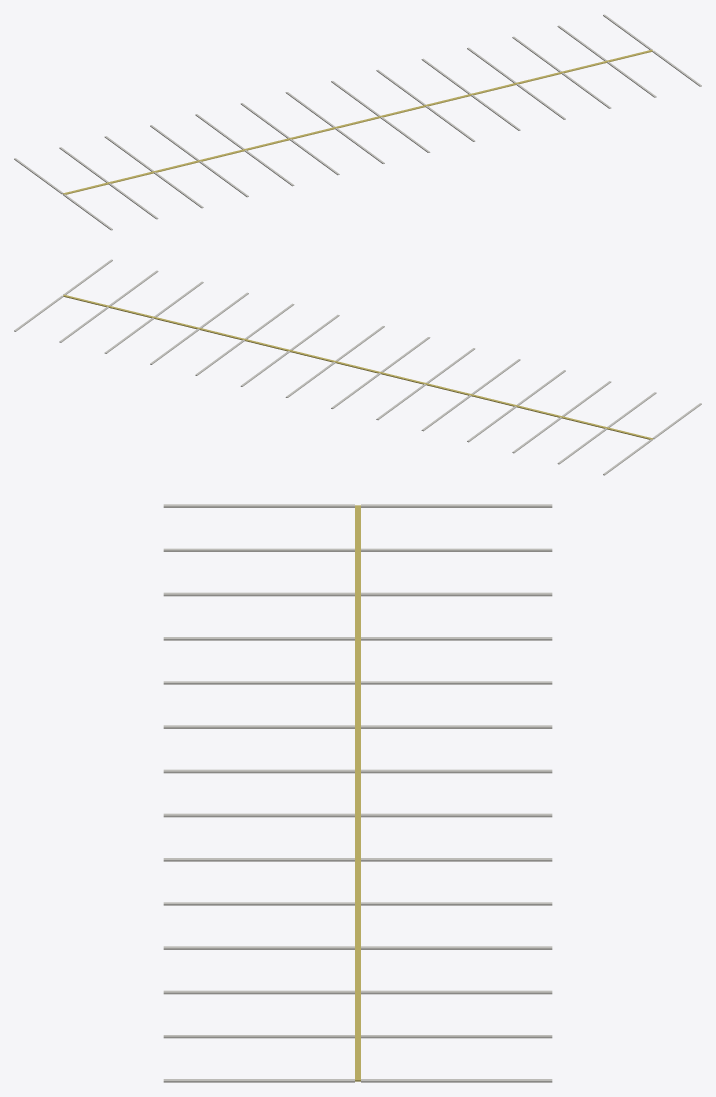
Rendered from lot-lines.lod1.glb.
3 renders of one model, top to bottom at view 1: azimuth 30°, elevation 25°; view 2: azimuth 150°, elevation 25°; view 3: azimuth 270°, elevation 25°, orthographic. The views are drawn at different scales.
Visible parts, largest first — view 1: lot-lines; view 2: lot-lines; view 3: lot-lines.
Boxes of the visible parts, x1=… form: lot-lines: x1=14, y1=14, x2=701, y2=230; lot-lines: x1=14, y1=259, x2=701, y2=475; lot-lines: x1=163, y1=504, x2=552, y2=1082.
Bounding box in the file's own units: 36.52 × 0.049 × 10.4.
